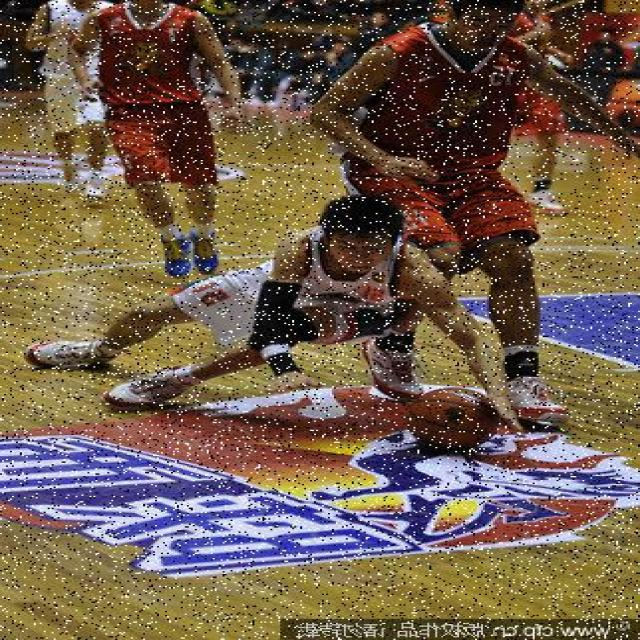fall: (63, 210, 460, 409)
